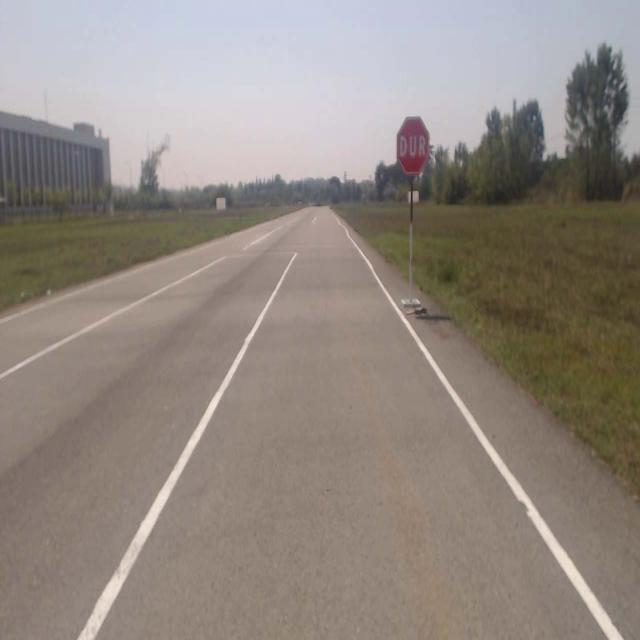dur: (397, 115, 430, 176)
